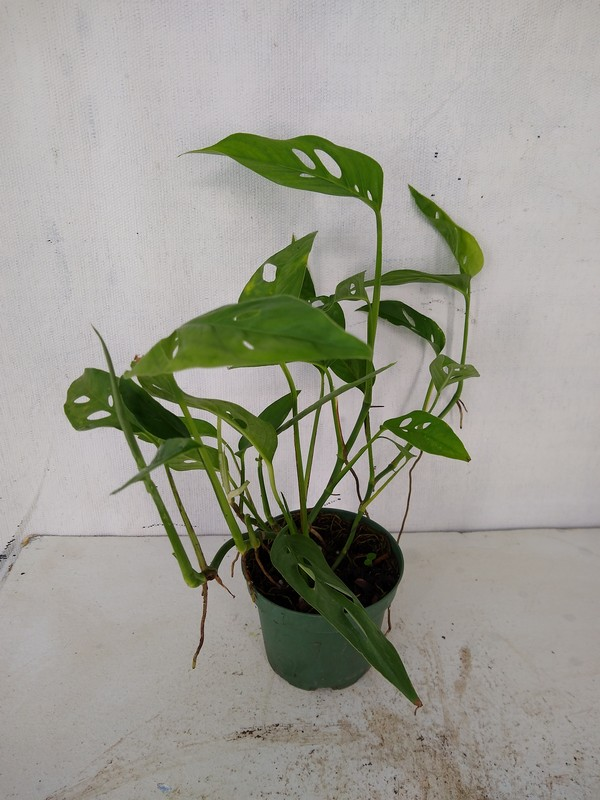plant: (60, 131, 490, 714)
pot: (240, 504, 407, 694)
